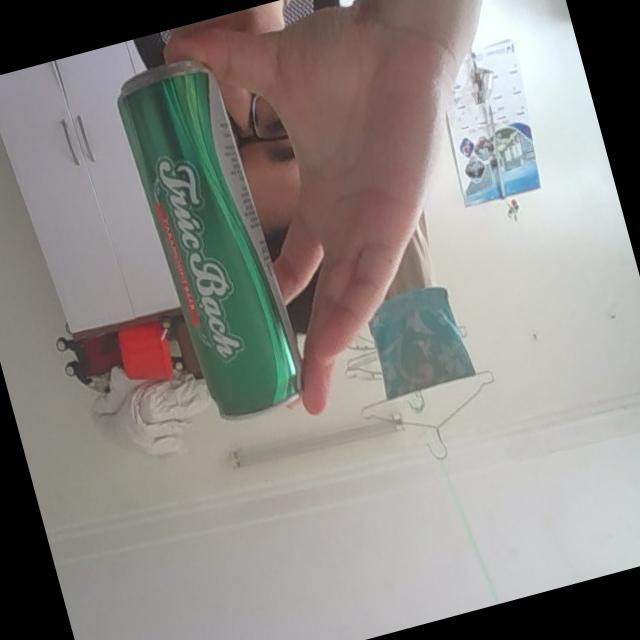Bia-Truc-Bach: (106, 48, 313, 437)
